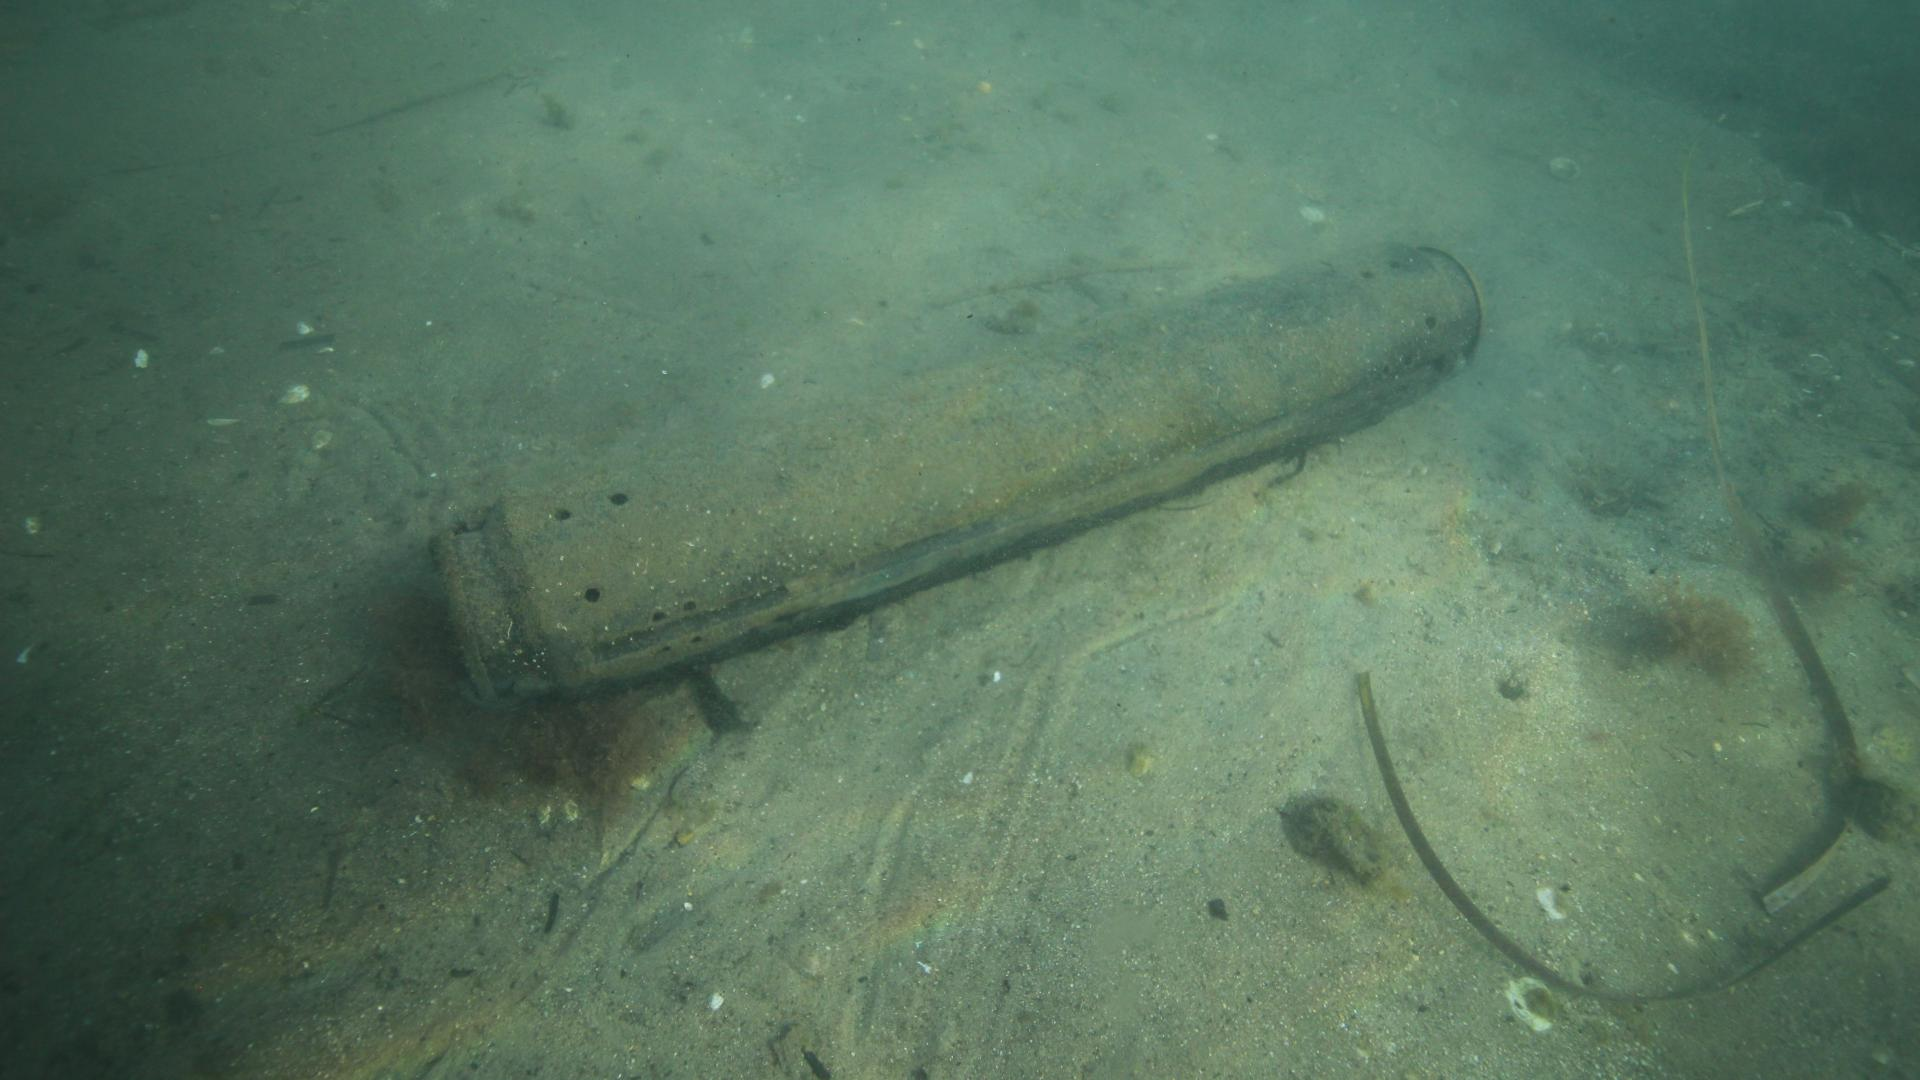eel fish trap: (434, 248, 1482, 712)
